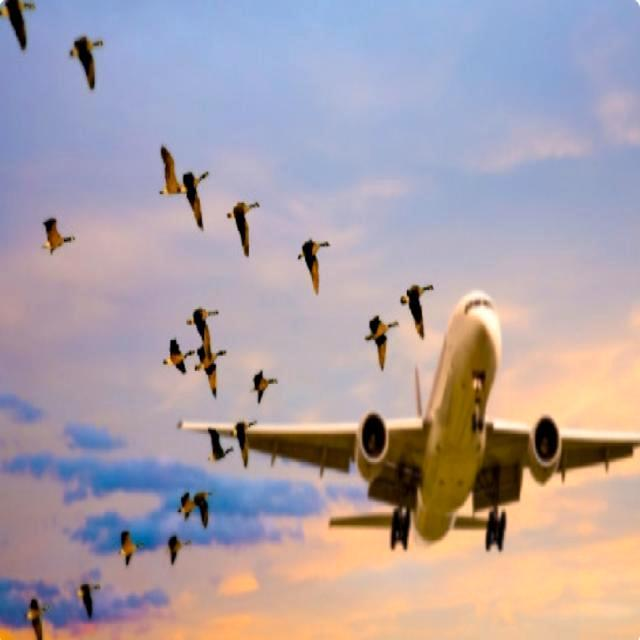bird: (66, 28, 114, 95), (292, 226, 334, 298), (224, 198, 268, 258), (358, 305, 399, 368), (38, 204, 78, 264), (400, 270, 436, 336), (109, 512, 145, 578), (180, 163, 218, 223), (155, 140, 183, 207), (157, 334, 196, 382), (73, 574, 107, 625), (0, 0, 36, 47), (182, 300, 227, 334), (196, 335, 224, 389), (20, 593, 52, 640), (164, 530, 195, 578), (232, 414, 260, 459), (206, 427, 235, 470), (251, 368, 279, 407), (192, 481, 218, 522), (175, 482, 200, 524)
